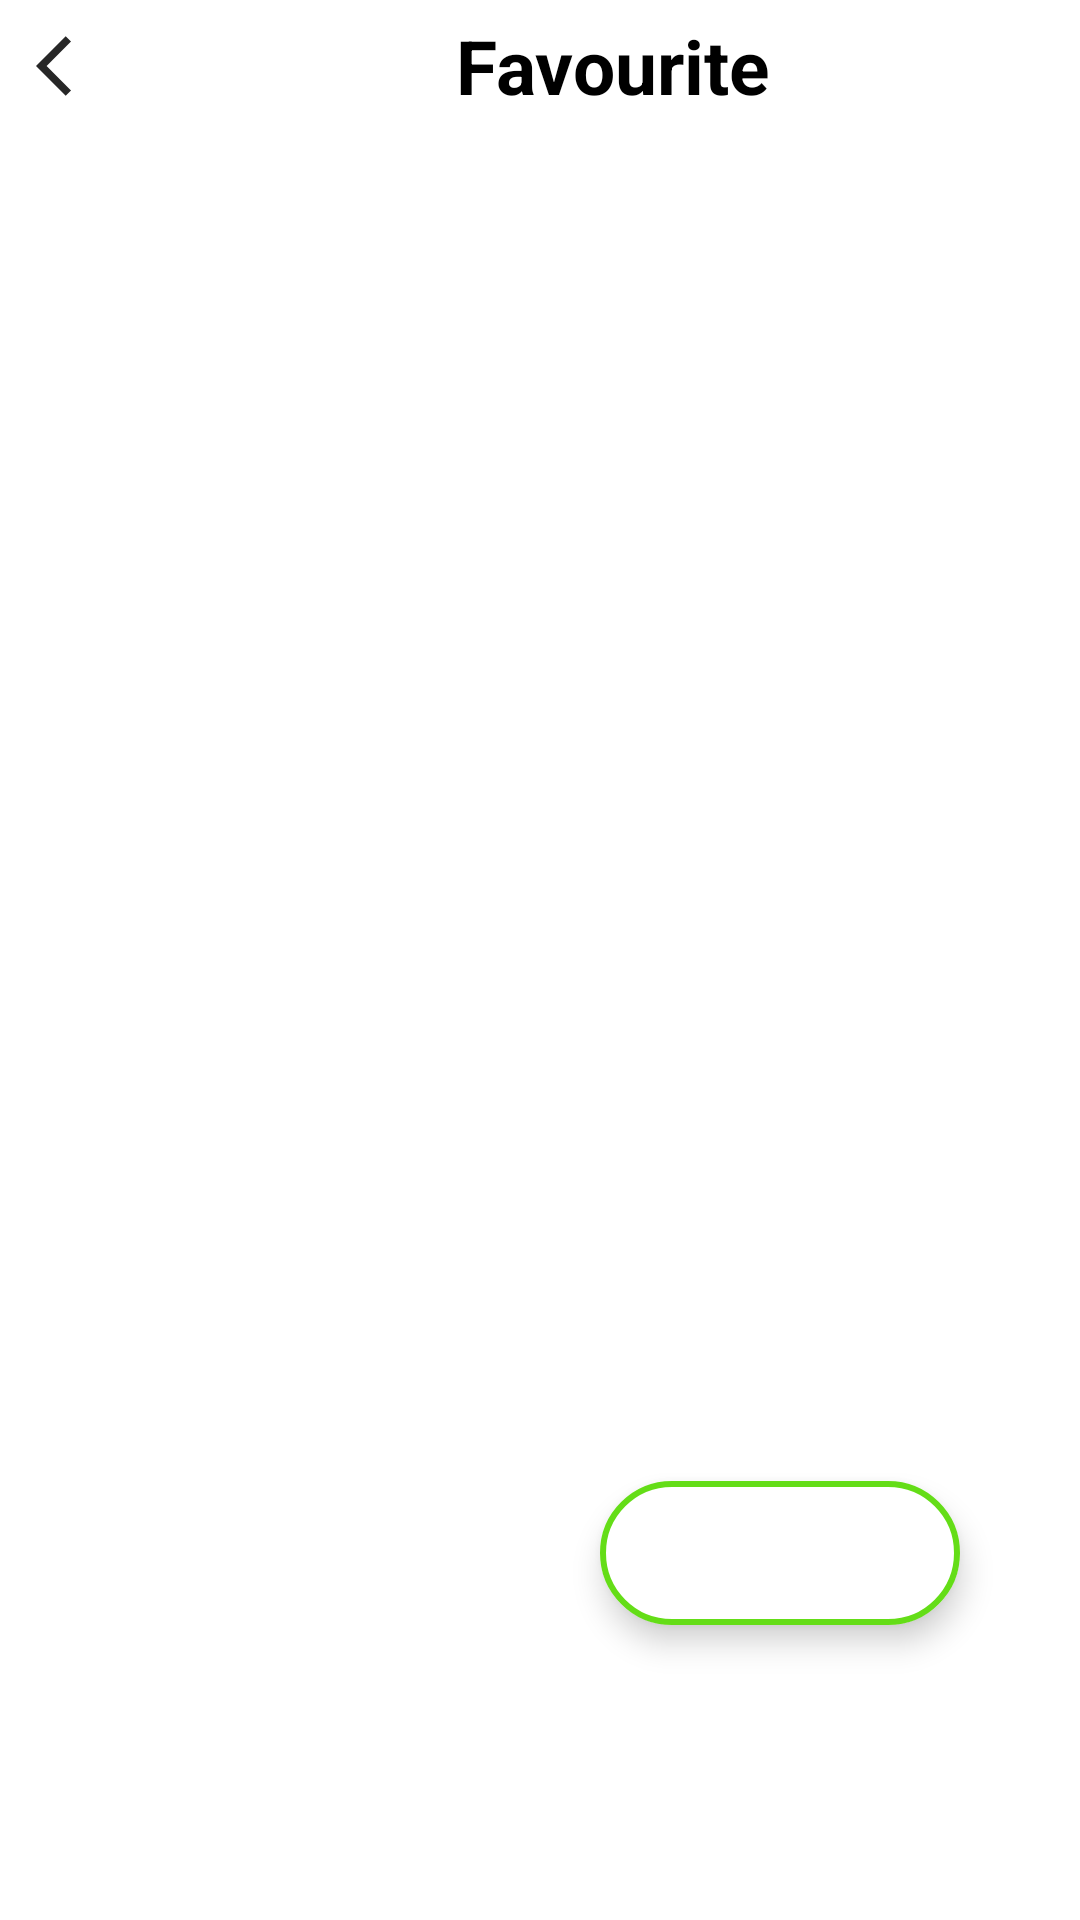

Named icons in this screenshot (1080px×1920px) and their bounding boxes, (x1, y1, x2, y2):
back: (36, 36, 71, 96)
